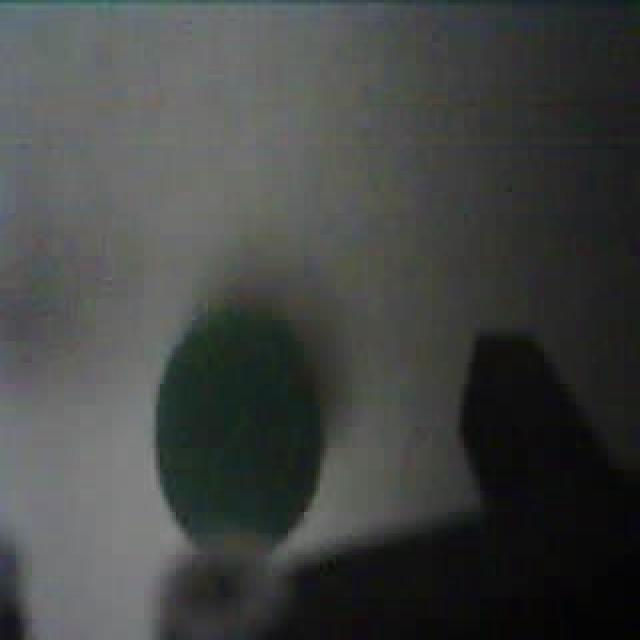green_ball: (150, 296, 328, 557)
